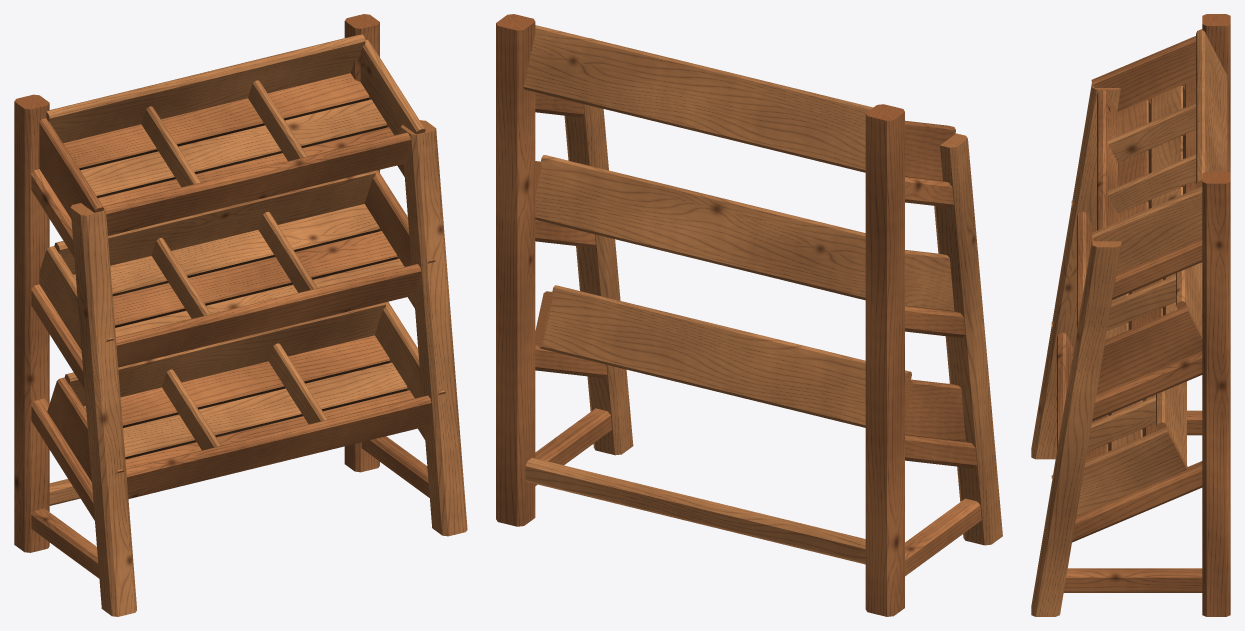
Rendered from FMS_Stall_Shelves.fbx.
3 renders of one model, left to right at view 1: azimuth 30°, elevation 25°; view 2: azimuth 150°, elevation 25°; view 3: azimuth 270°, elevation 25°, orthographic. The views are drawn at different scales.
Parts seen in each view (by area): view 1: item_stalls_shelves_v2; view 2: item_stalls_shelves_v2; view 3: item_stalls_shelves_v2.
Boxes of the visible parts, <box> form: item_stalls_shelves_v2: <box>14,14,467,616</box>; item_stalls_shelves_v2: <box>496,14,1002,616</box>; item_stalls_shelves_v2: <box>1031,14,1230,616</box>.
Bounding box in the file's own units: 1.2 × 1.43 × 0.5965.
